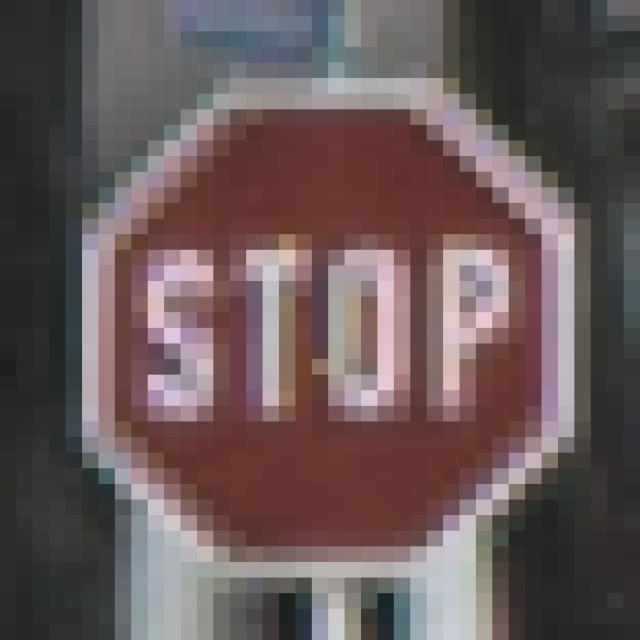STOP: (83, 79, 559, 563)
